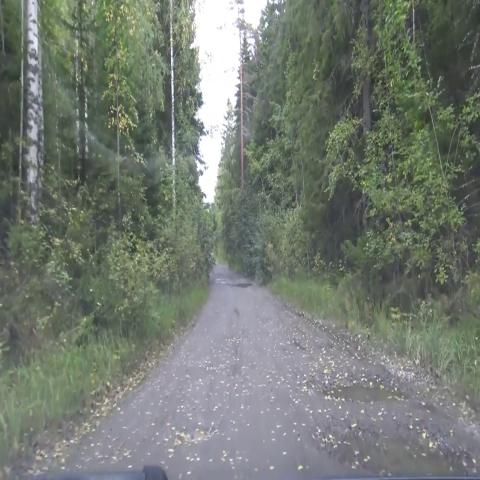pothole: (303, 414, 473, 478), (317, 376, 413, 411), (166, 414, 222, 458), (287, 315, 316, 364), (215, 270, 255, 301)
